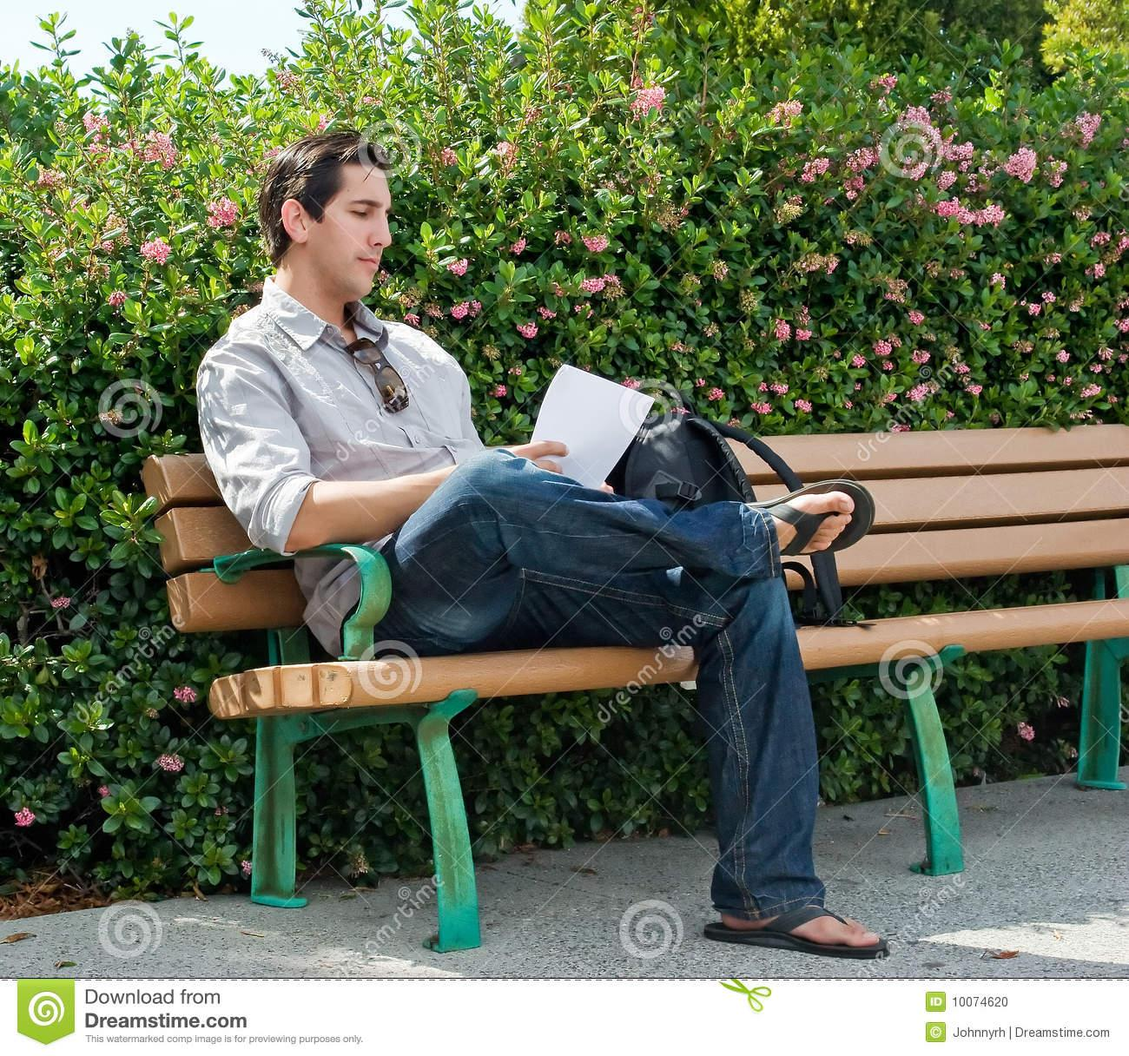FallenBody: (170, 102, 909, 979)
